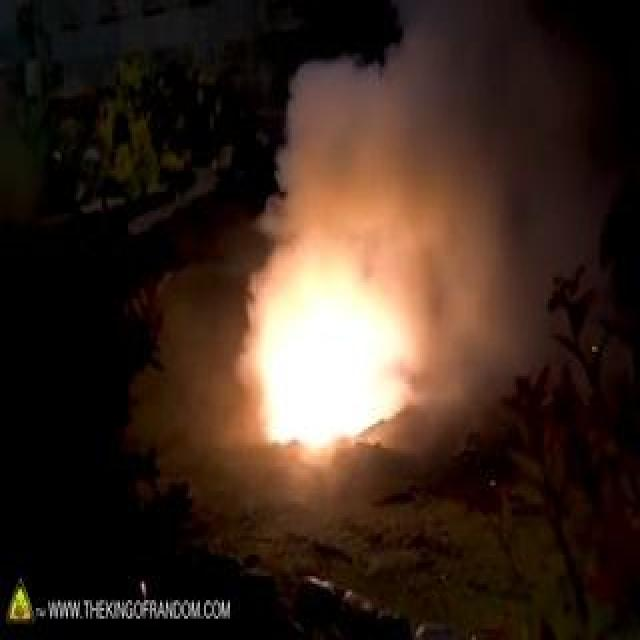Fire: (152, 232, 339, 328)
